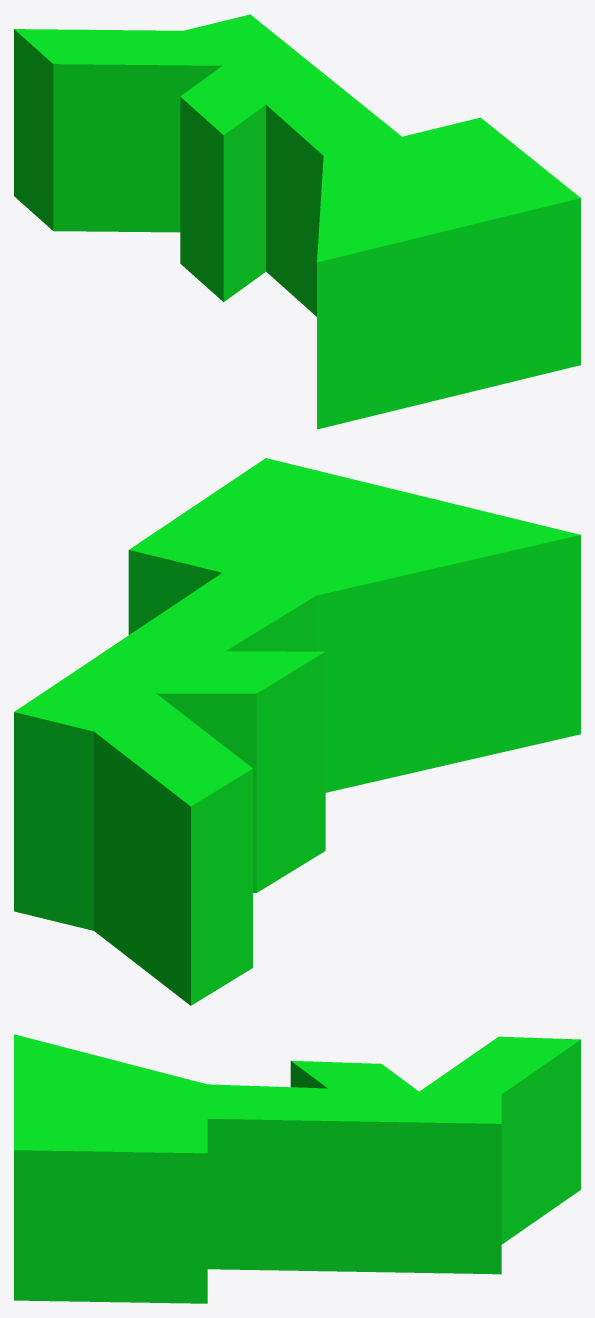
File: ciervo1.glb
3 views of the same model, one above another, from view 1: azimuth 30°, elevation 25°; view 2: azimuth 150°, elevation 25°; view 3: azimuth 270°, elevation 25° (orthographic). The views are drawn at different scales.
Parts seen in each view (by area): view 1: ciervo1; view 2: ciervo1; view 3: ciervo1.
Boxes of the visible parts, left/top/right/bottom form: ciervo1: left=14, top=14, right=580, bottom=429; ciervo1: left=14, top=458, right=580, bottom=1005; ciervo1: left=14, top=1034, right=580, bottom=1303.
Size of the model in its own units: 0.4864 by 0.2862 by 0.9779.
